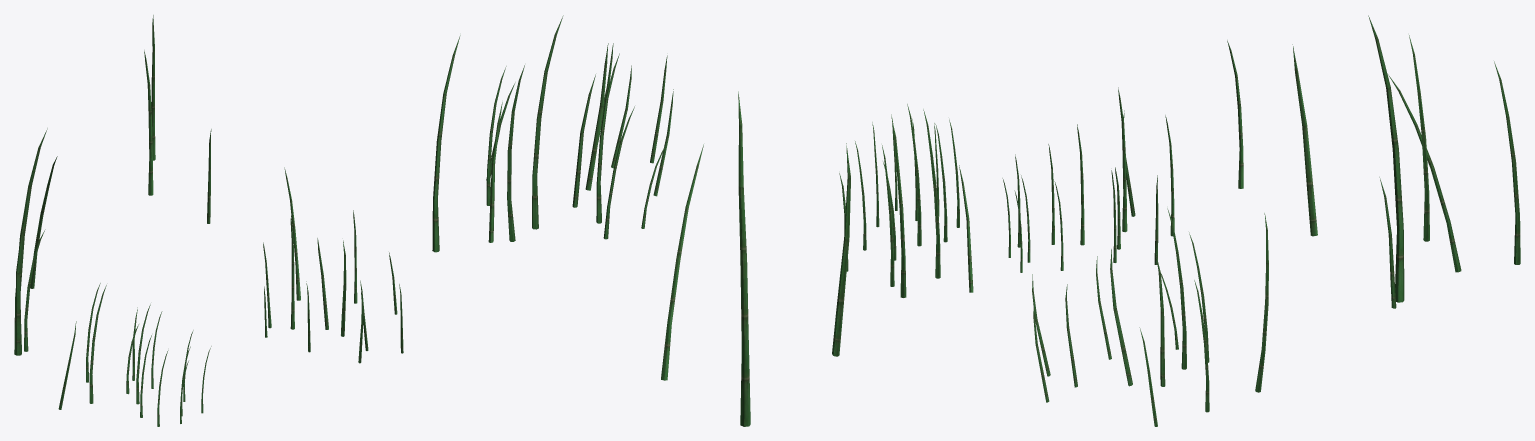
The model's file is Area_01_6.fbx.
3 views of the same model, side by side, from view 1: azimuth 30°, elevation 25°; view 2: azimuth 150°, elevation 25°; view 3: azimuth 270°, elevation 25° (orthographic). The views are drawn at different scales.
Parts seen in each view (by area): view 1: Area_01_6; view 2: Area_01_6; view 3: Area_01_6.
Part boxes in pixels (bbox=[...]): Area_01_6: bbox=[14, 15, 403, 426]; Area_01_6: bbox=[432, 15, 973, 426]; Area_01_6: bbox=[1002, 15, 1520, 426].
Bounding box in the file's own units: 3895 × 2910 × 3921.
